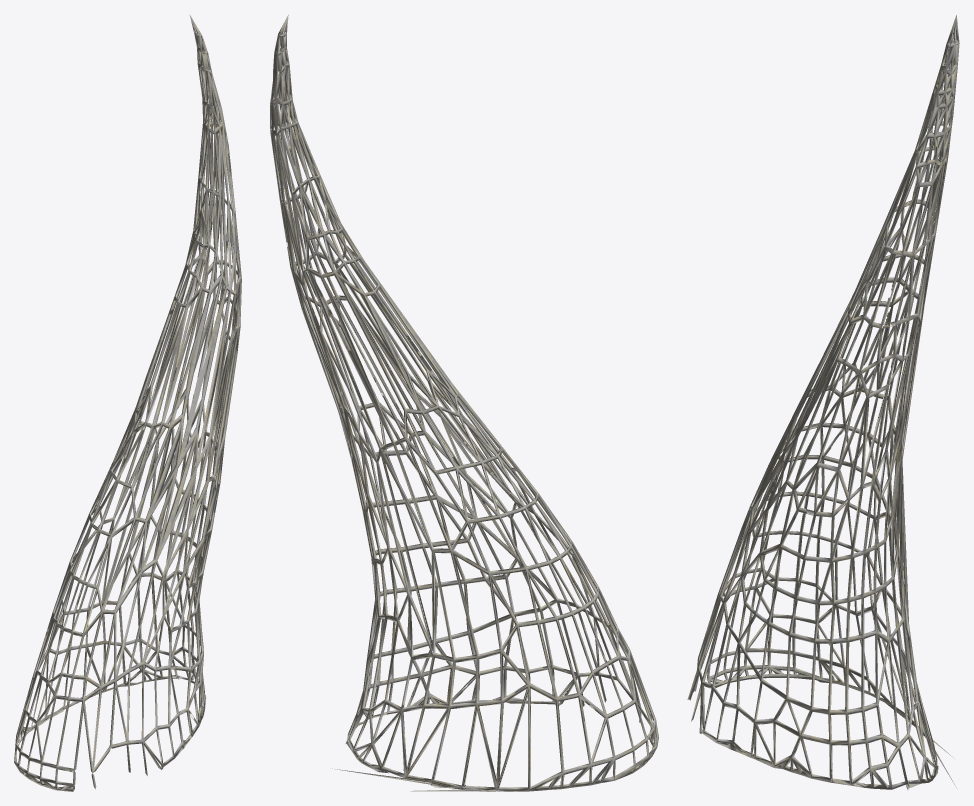
File: web_02_real.dae
The picture shows the model from 3 angles, left to right: view 1: azimuth 30°, elevation 25°; view 2: azimuth 150°, elevation 25°; view 3: azimuth 270°, elevation 25°; orthographic projection. The views are drawn at different scales.
Visible parts, largest first — view 1: Cylinder; view 2: Cylinder; view 3: Cylinder.
Part boxes in pixels (x1,y1,x2,y2): Cylinder: (14, 14, 241, 791); Cylinder: (270, 14, 658, 791); Cylinder: (687, 15, 959, 790).
Size of the model in its own units: 0.4668 by 0.3391 by 1.11.
1 material, 1 textured.
